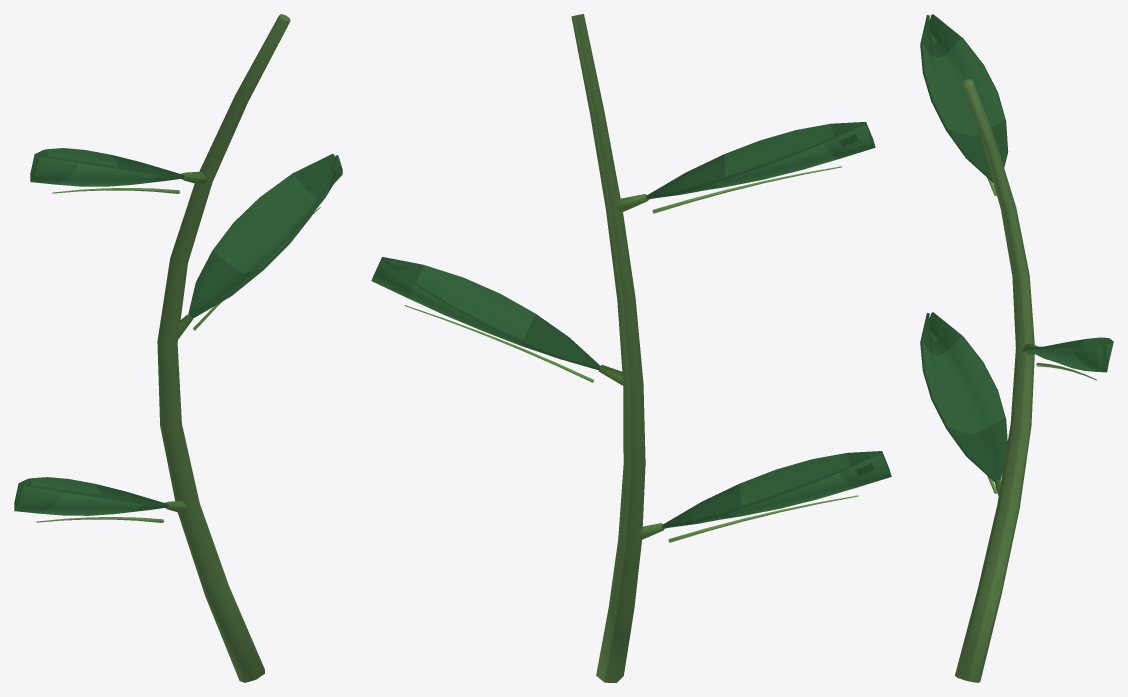
The model's file is garden-zinnia-bloom-stem-1.glb.
3 views of the same model, side by side, from view 1: azimuth 30°, elevation 25°; view 2: azimuth 150°, elevation 25°; view 3: azimuth 270°, elevation 25° (orthographic). The views are drawn at different scales.
Visible parts, largest first — view 1: zinnia-bloom-stem-1; view 2: zinnia-bloom-stem-1; view 3: zinnia-bloom-stem-1.
Boxes of the visible parts, box(x1,y1,x2,y2) form: zinnia-bloom-stem-1: box(14, 14, 342, 682); zinnia-bloom-stem-1: box(371, 14, 891, 682); zinnia-bloom-stem-1: box(920, 14, 1113, 682).
Size of the model in its own units: 0.2384 by 0.3531 by 0.1004.
